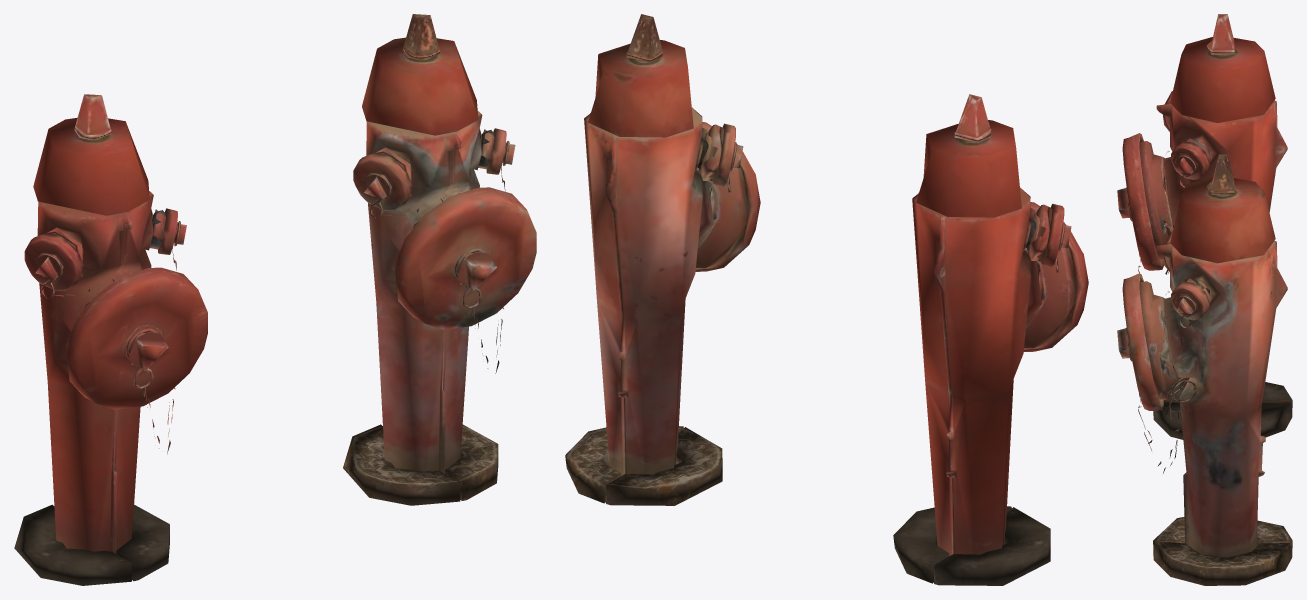
The model's file is fire-hydrant.lod1.glb.
The picture shows the model from 3 angles, left to right: view 1: azimuth 30°, elevation 25°; view 2: azimuth 150°, elevation 25°; view 3: azimuth 270°, elevation 25°; orthographic projection. The views are drawn at different scales.
Visible parts, largest first — view 1: fire_hydrant_aged, fire_hydrant, fire_hydrant_cap_01_aged, fire_hydrant_cap_01, fire_hydrant_cap_03_aged, fire_hydrant_cap_03, fire_hydrant_chain_aged, fire_hydrant_chain, fire_hydrant_cap_02, fire_hydrant_cap_02_aged; view 2: fire_hydrant_aged, fire_hydrant, fire_hydrant_cap_01_aged, fire_hydrant_cap_01, fire_hydrant_cap_03, fire_hydrant_cap_03_aged; view 3: fire_hydrant_aged, fire_hydrant, fire_hydrant_cap_01, fire_hydrant_cap_01_aged, fire_hydrant_cap_02, fire_hydrant_cap_02_aged, fire_hydrant_chain_aged.
Boxes of the visible parts, x1=… form: fire_hydrant_aged: x1=343, y1=14, x2=498, y2=505; fire_hydrant: x1=14, y1=94, x2=169, y2=585; fire_hydrant_cap_01_aged: x1=394, y1=187, x2=536, y2=329; fire_hydrant_cap_01: x1=66, y1=267, x2=207, y2=409; fire_hydrant_cap_03_aged: x1=353, y1=153, x2=412, y2=210; fire_hydrant_cap_03: x1=24, y1=233, x2=83, y2=290; fire_hydrant_chain_aged: x1=368, y1=142, x2=506, y2=373; fire_hydrant_chain: x1=40, y1=222, x2=177, y2=454; fire_hydrant_cap_02: x1=158, y1=208, x2=186, y2=254; fire_hydrant_cap_02_aged: x1=486, y1=128, x2=515, y2=174; fire_hydrant_aged: x1=565, y1=14, x2=747, y2=505; fire_hydrant: x1=893, y1=94, x2=1075, y2=585; fire_hydrant_cap_01_aged: x1=695, y1=122, x2=760, y2=271; fire_hydrant_cap_01: x1=1023, y1=202, x2=1088, y2=351; fire_hydrant_cap_03: x1=1041, y1=204, x2=1071, y2=266; fire_hydrant_cap_03_aged: x1=712, y1=123, x2=743, y2=186; fire_hydrant_aged: x1=1140, y1=154, x2=1292, y2=585; fire_hydrant: x1=1140, y1=14, x2=1292, y2=439; fire_hydrant_cap_01: x1=1117, y1=133, x2=1163, y2=270; fire_hydrant_cap_01_aged: x1=1117, y1=273, x2=1163, y2=410; fire_hydrant_cap_02: x1=1170, y1=141, x2=1209, y2=179; fire_hydrant_cap_02_aged: x1=1170, y1=281, x2=1209, y2=320; fire_hydrant_chain_aged: x1=1138, y1=291, x2=1197, y2=473.
Bounding box in the file's own units: 0.8745 × 0.7992 × 0.3173.
2 materials, 2 textured.
